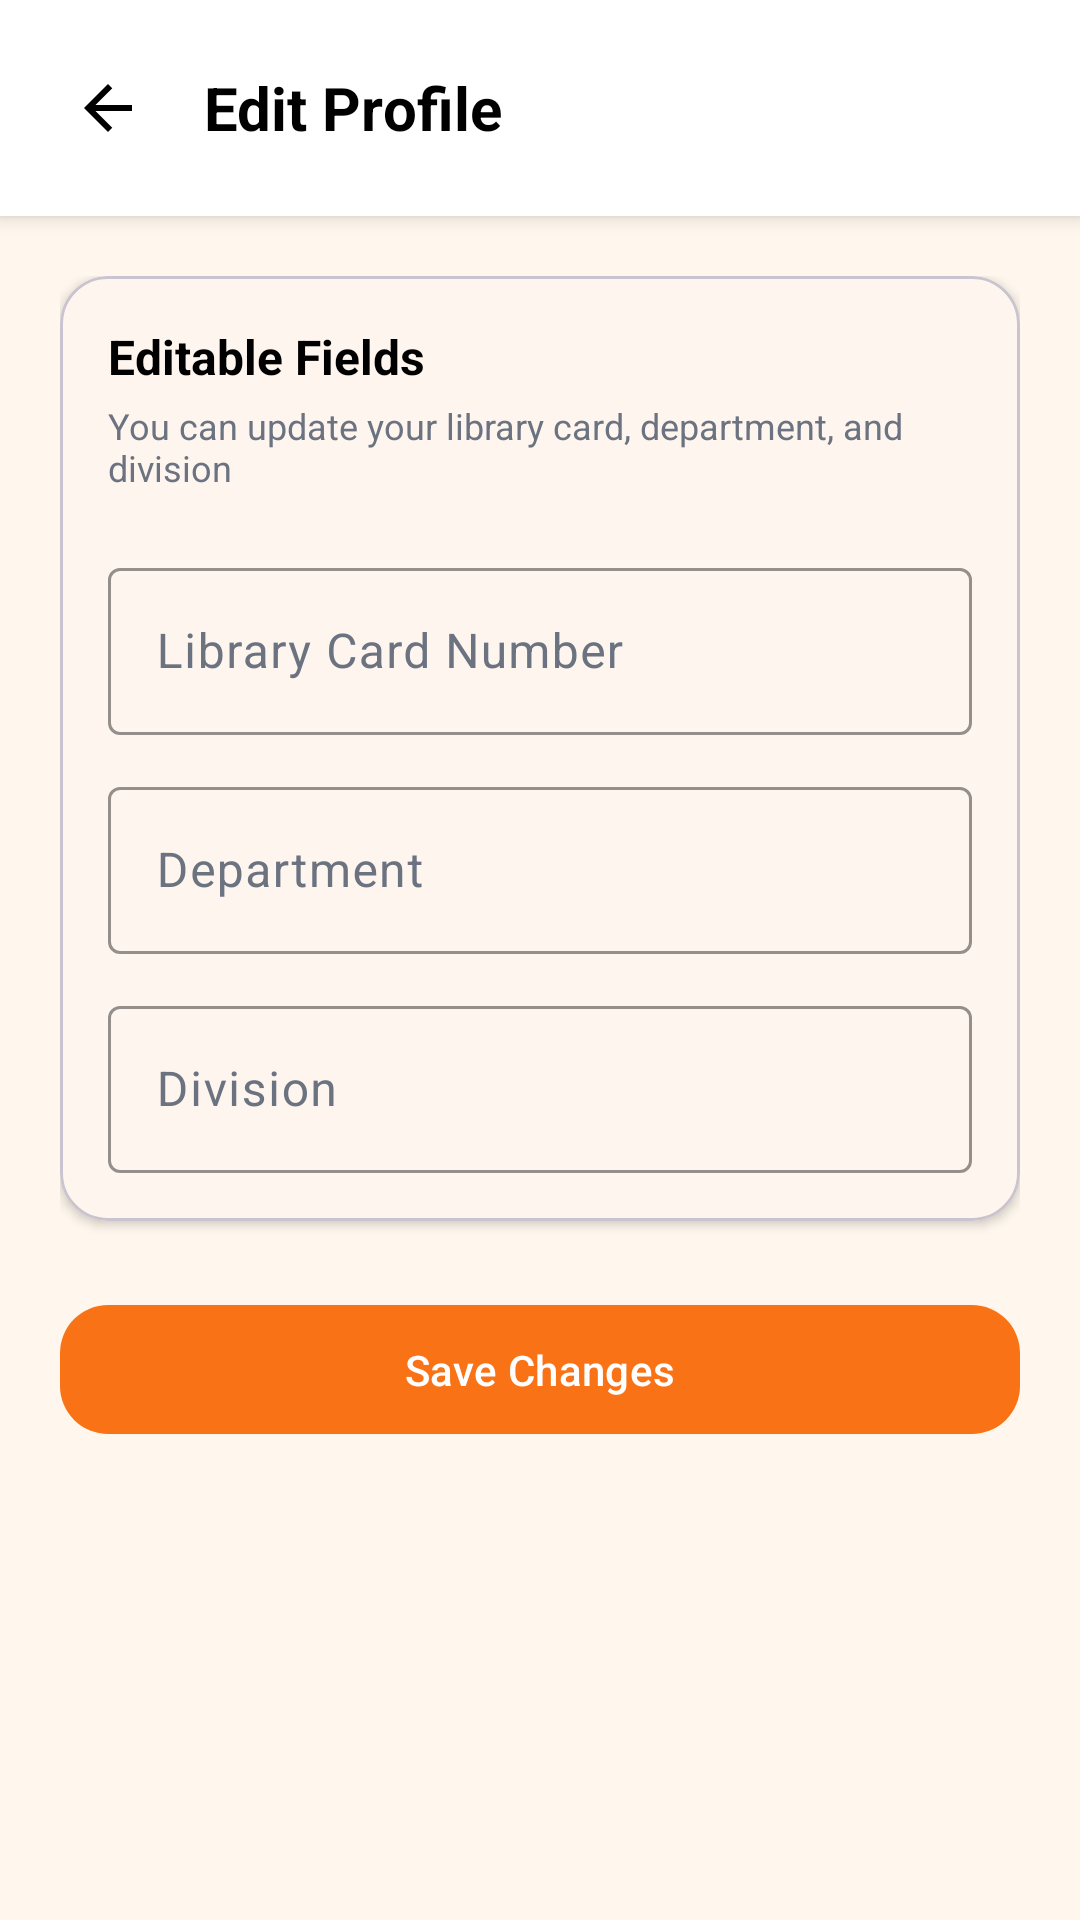

Icon click points for this 1080x1920 phone screenshot, format (x=x, y=y):
Back: (x=108, y=108)
